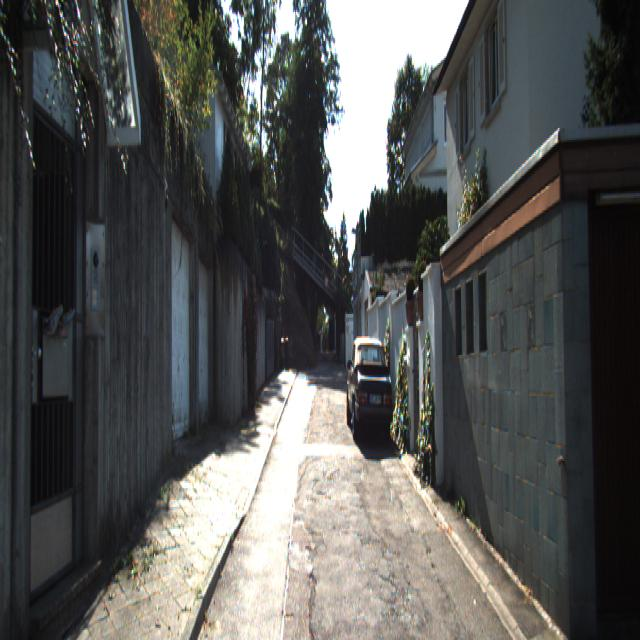Car: (344, 329, 394, 449)
